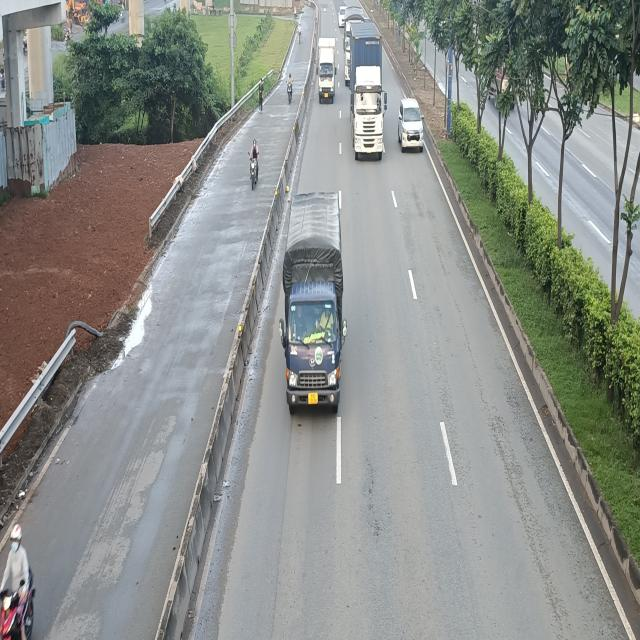car: (399, 98, 426, 154)
container: (346, 22, 386, 164)
truck: (277, 188, 345, 414), (316, 39, 336, 104)
